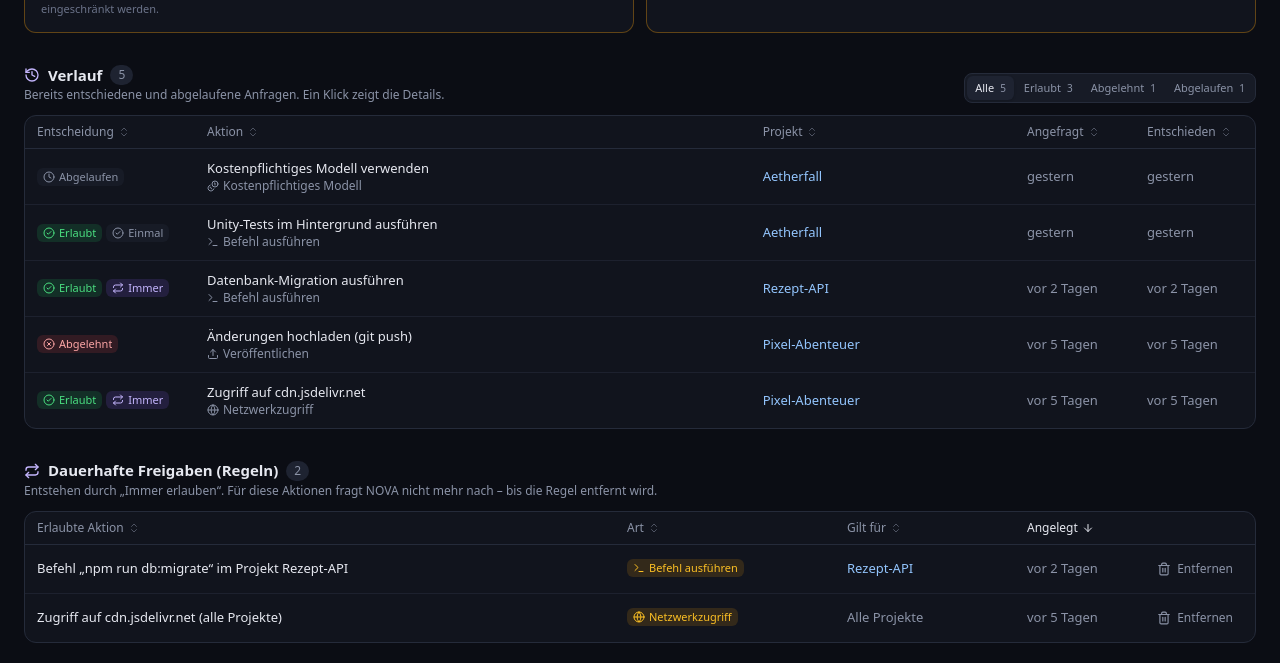
Test: ApprovalsPage › deletes a rule after confirmation
(page scrolled)
Click the button named "Regel entfernen: Zugriff auf cdn.jsdelivr.net (alle Projekte)". click: (1195, 618)
box: [1147, 604, 1243, 632]
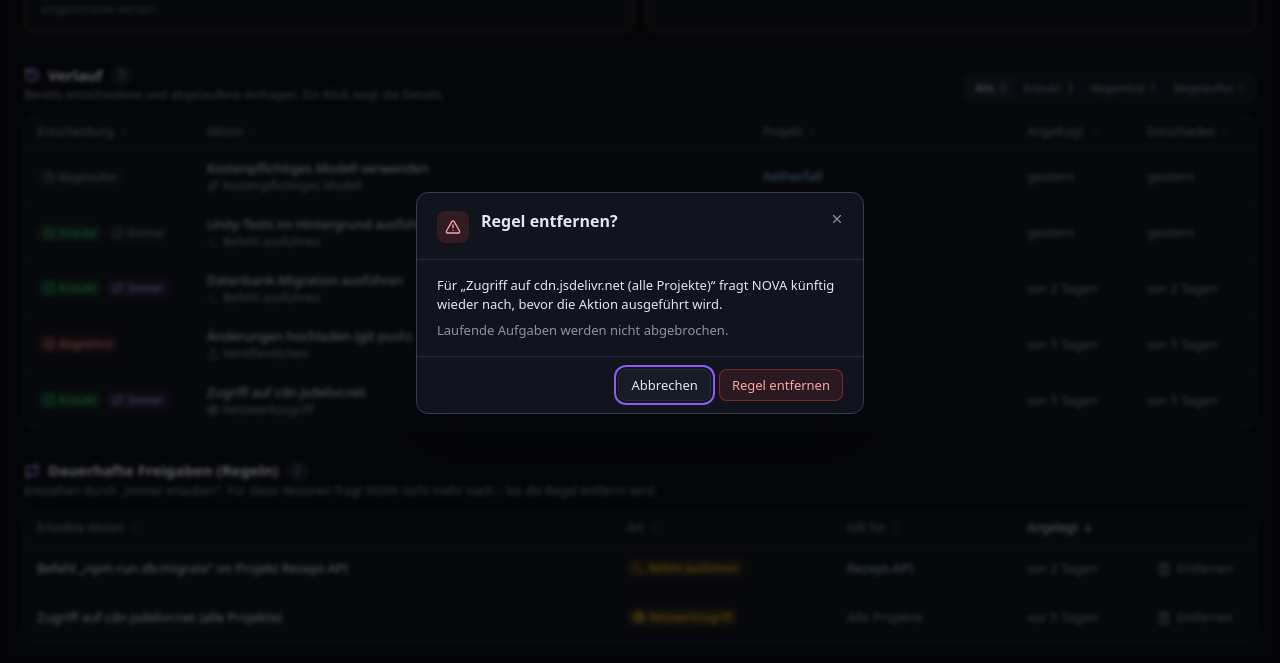
Click the button "Regel entfernen". click: (781, 385)
box: [719, 369, 843, 401]
(page scrolled)
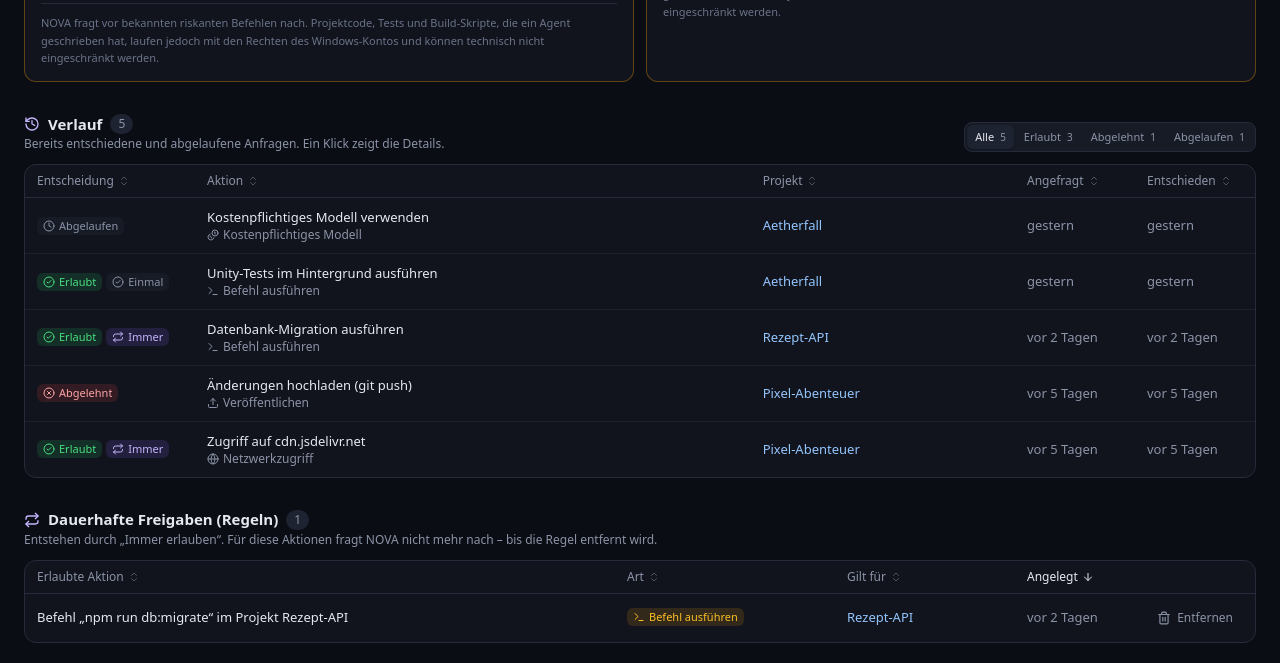
Expected: the text "Zugriff auf cdn.jsdelivr.net (alle Projekte)" is gone
